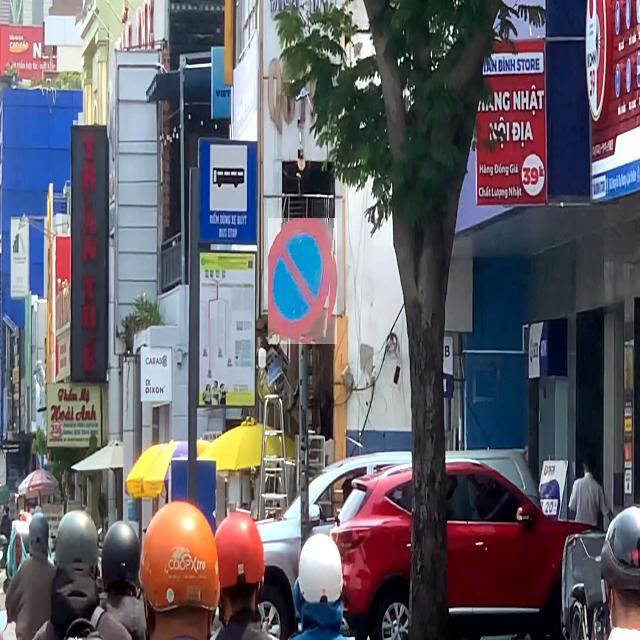P-131a: (268, 218, 337, 344)
